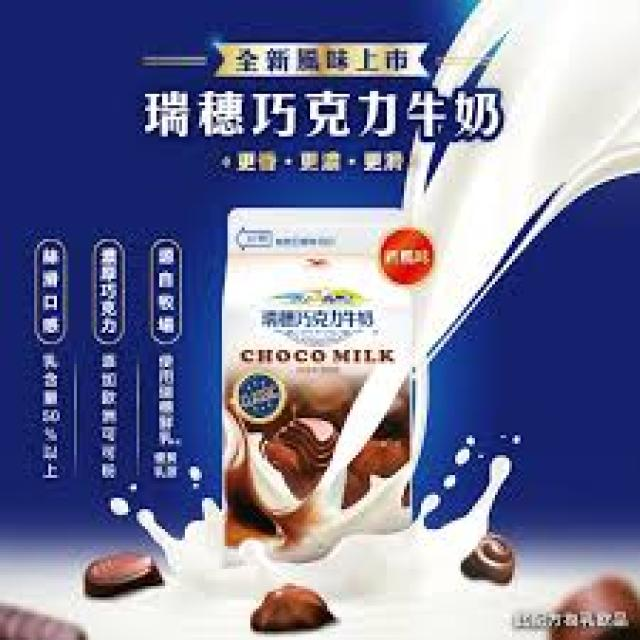RuiSui_ChocoMilk: (216, 202, 420, 541)
